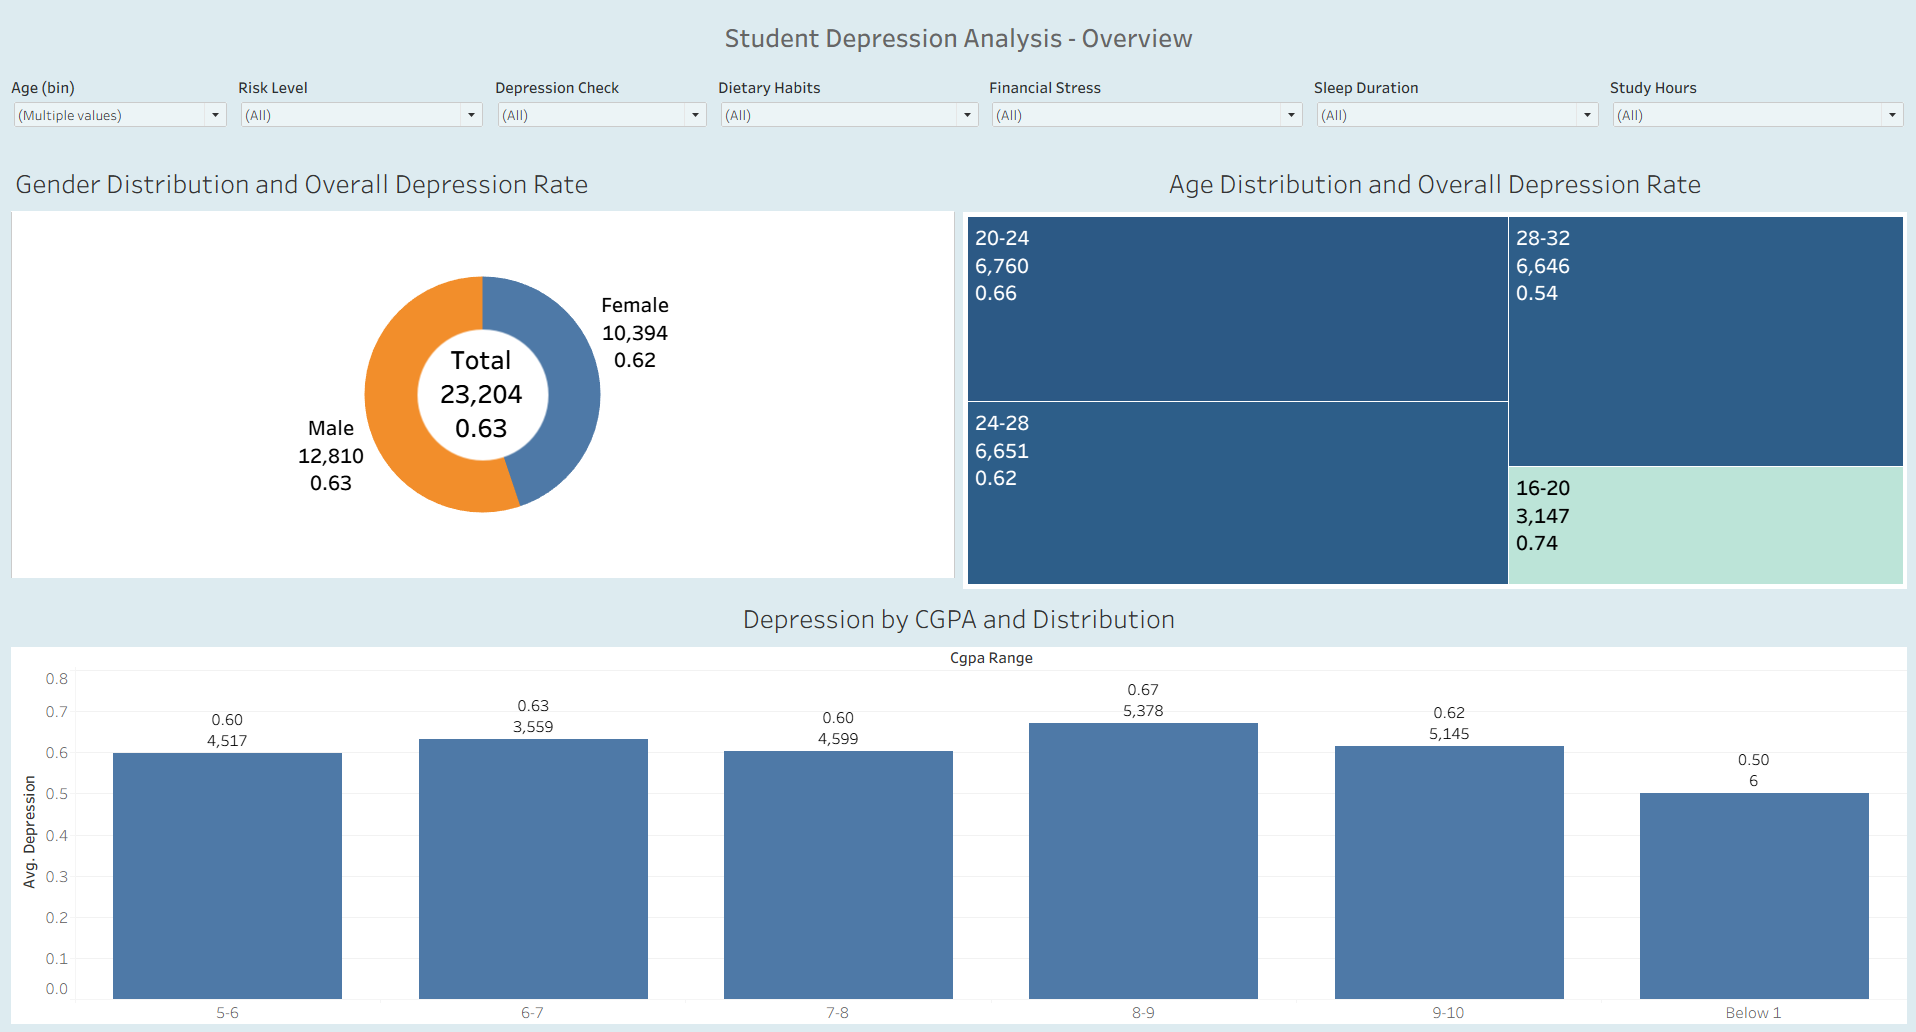

The page's visual inventory and layout, read from the dashboard file:
{"tool":"tableau","page":{"name":"Overview","canvas":[1000,1000],"units":"permille","ordinal":1},"visuals":[{"type":"text","box":[4.8,9.4,990.3,68.6]},{"type":"filter","title":"Age Bin Distribution","param":"[federated.06oz1im1gha7c81ckzce51y9n668].[none:Age (bin):ok]","box":[4.8,78,118.2,81.3]},{"type":"filter","title":"Gender Distribution","param":"[federated.06oz1im1gha7c81ckzce51y9n668].[none:risk_level:nk]","box":[123.1,78,133.4,81.3]},{"type":"filter","title":"Age Bin Distribution","param":"[federated.06oz1im1gha7c81ckzce51y9n668].[none:Calculation_0480808767025155:nk]","box":[256.5,78,115.9,81.3]},{"type":"filter","title":"Gender Distribution","param":"[federated.06oz1im1gha7c81ckzce51y9n668].[none:dietary_habits:nk]","box":[372.3,78,141.2,81.3]},{"type":"filter","title":"Gender Distribution","param":"[federated.06oz1im1gha7c81ckzce51y9n668].[none:financial_stress:ok]","box":[513.5,78,169,81.3]},{"type":"filter","title":"Gender Distribution","param":"[federated.06oz1im1gha7c81ckzce51y9n668].[none:sleep_duration:nk]","box":[682.5,78,153.9,81.3]},{"type":"filter","title":"Gender Distribution","param":"[federated.06oz1im1gha7c81ckzce51y9n668].[none:study_hours:ok]","box":[836.4,78,158.8,81.3]},{"type":"worksheet","title":"Gender Distribution","mark":"Pie","cols":["Calculation_0480808760430594","Calculation_0480808760430594"],"box":[4.8,159.3,495.2,415.6]},{"type":"worksheet","title":"Age Bin Distribution","mark":"Automatic","box":[500,159.3,495.2,415.6]},{"type":"worksheet","title":"Depression by CGPA","mark":"Automatic","rows":["depression"],"cols":["cgpa_range"],"box":[4.8,574.9,990.3,415.7]}]}

Visuals, with their boxes on the dashboard's canvas, which has no fixed pixel size, in thousandths of its width and height (x1, y1, x2, y2). These are canvas units, not pixel positions in the 1916x1032 screenshot, which may show the page scaled, cropped or inside an application window:
text: box(5, 9, 995, 78)
"Age Bin Distribution" filter: box(5, 78, 123, 159)
"Gender Distribution" filter: box(123, 78, 256, 159)
"Age Bin Distribution" filter: box(256, 78, 372, 159)
"Gender Distribution" filter: box(372, 78, 514, 159)
"Gender Distribution" filter: box(514, 78, 682, 159)
"Gender Distribution" filter: box(682, 78, 836, 159)
"Gender Distribution" filter: box(836, 78, 995, 159)
"Gender Distribution" worksheet (Pie marks): box(5, 159, 500, 575)
"Age Bin Distribution" worksheet: box(500, 159, 995, 575)
"Depression by CGPA" worksheet: box(5, 575, 995, 991)
